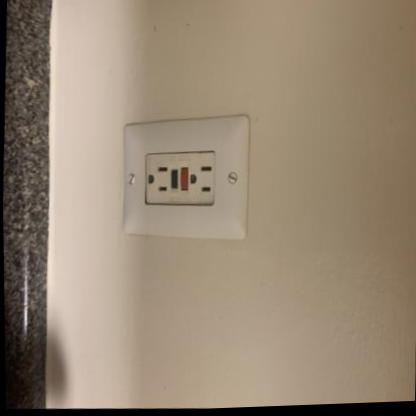OUTLET: (122, 109, 253, 240)
